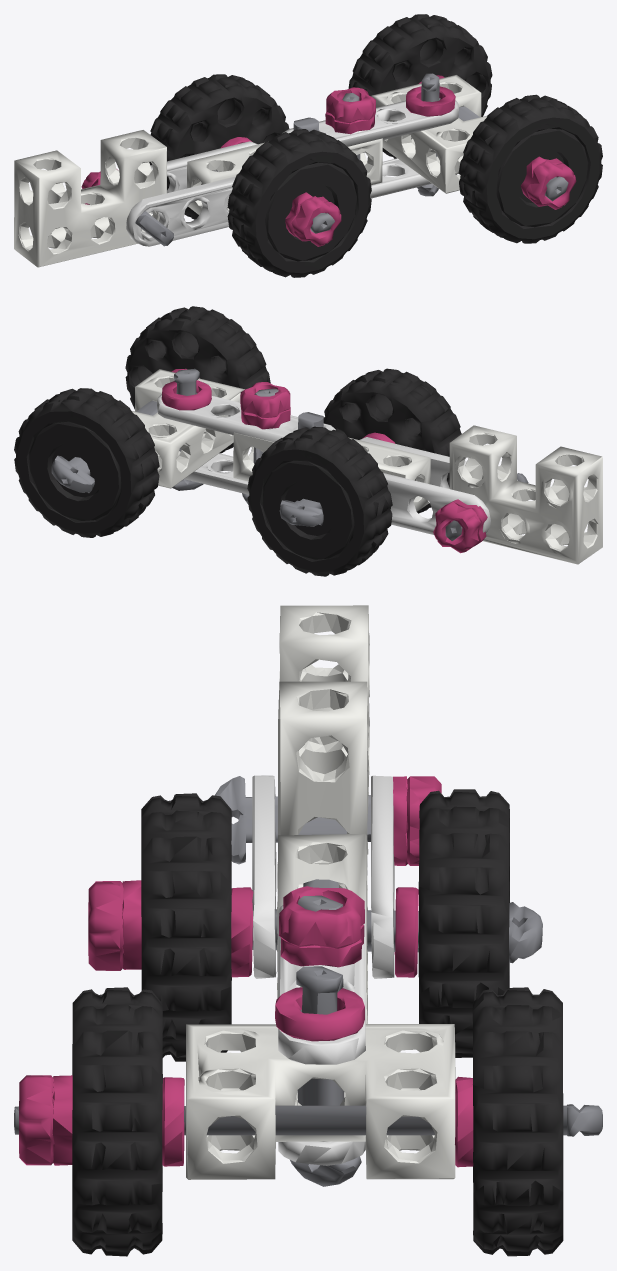
File: UMilestone9.fbx
3 renders of one model, top to bottom at view 1: azimuth 30°, elevation 25°; view 2: azimuth 150°, elevation 25°; view 3: azimuth 270°, elevation 25°, orthographic. The views are drawn at different scales.
Visible parts, largest first — view 1: Pin CL RHD BU01.75 - SPN-PIN-0047 (stemfie.org).001; view 2: Pin CL RHD BU01.75 - SPN-PIN-0047 (stemfie.org).001; view 3: Pin CL RHD BU01.75 - SPN-PIN-0047 (stemfie.org).001.
Boxes of the visible parts, bbox=[...] form: Pin CL RHD BU01.75 - SPN-PIN-0047 (stemfie.org).001: bbox=[14, 14, 602, 277]; Pin CL RHD BU01.75 - SPN-PIN-0047 (stemfie.org).001: bbox=[14, 306, 602, 576]; Pin CL RHD BU01.75 - SPN-PIN-0047 (stemfie.org).001: bbox=[14, 605, 602, 1256].
Bounding box in the file's own units: 14878 × 3840 × 8191.
